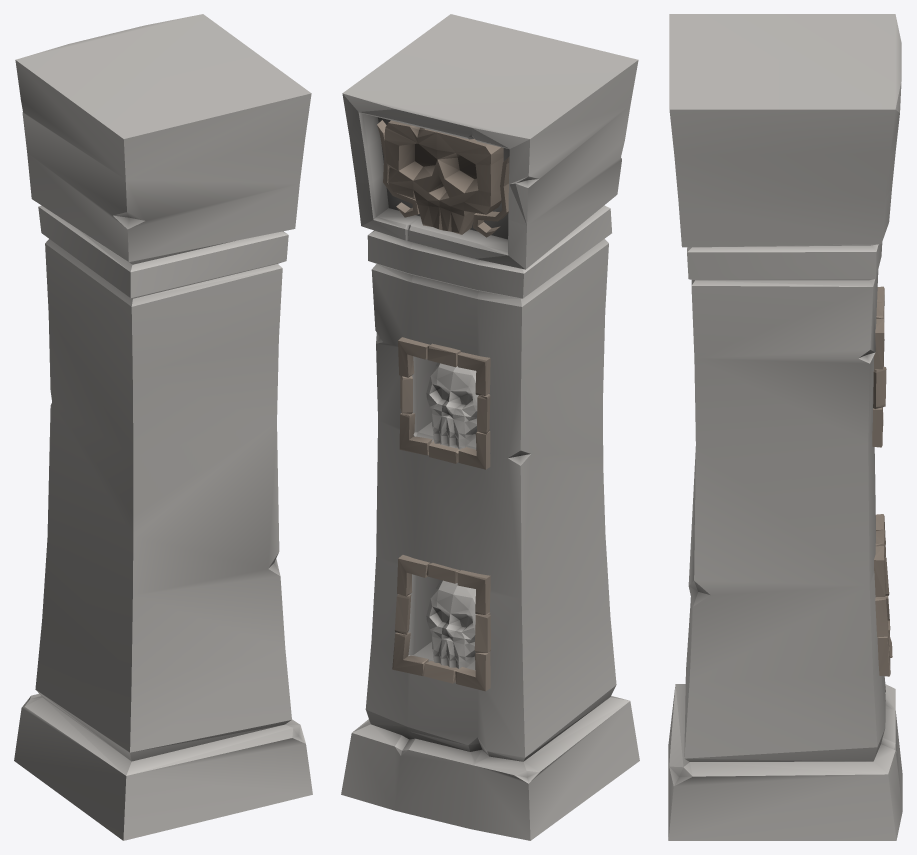
File: obj_columnSkull_B_LOW.FBX
The picture shows the model from 3 angles, left to right: view 1: azimuth 30°, elevation 25°; view 2: azimuth 150°, elevation 25°; view 3: azimuth 270°, elevation 25°; orthographic projection. The views are drawn at different scales.
Parts seen in each view (by area): view 1: obj_columnSkull_B_LOW; view 2: obj_columnSkull_B_LOW; view 3: obj_columnSkull_B_LOW.
Part boxes in pixels (bbox=[...]): obj_columnSkull_B_LOW: bbox=[14, 14, 312, 840]; obj_columnSkull_B_LOW: bbox=[341, 14, 639, 840]; obj_columnSkull_B_LOW: bbox=[668, 14, 902, 840].
Bounding box in the file's own units: 1.7 × 6 × 1.74.
